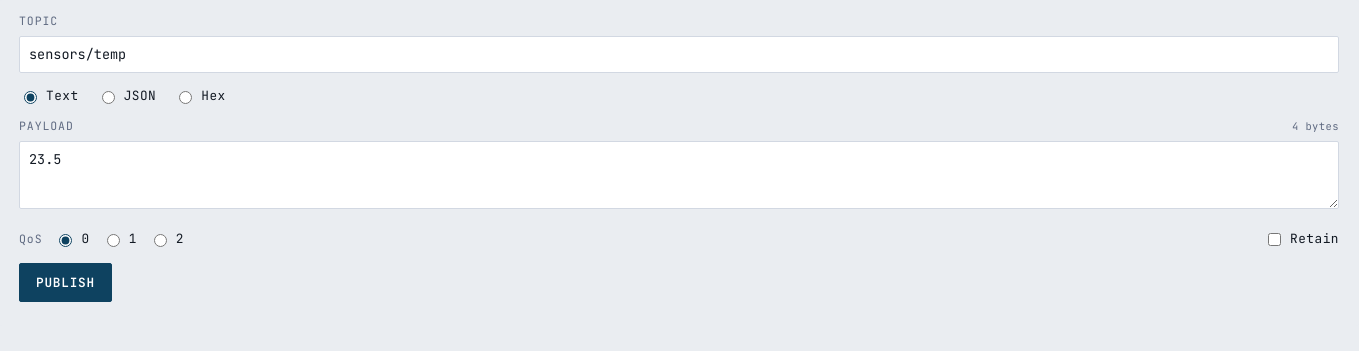
Test: PublishPanel › leaves what it cannot encode under the box, with the count gone
This screenshot has width=1359, height=351.
Clear the text box labelled "Payload" at (679, 175), box [19,141,1339,209]
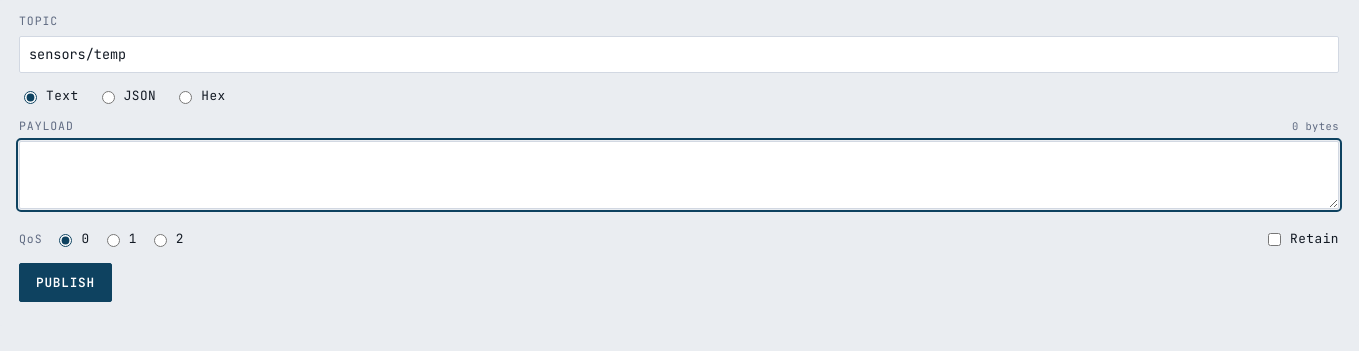
Click the radio button labelled "Hex" at (186, 97), box [179,91,192,104]
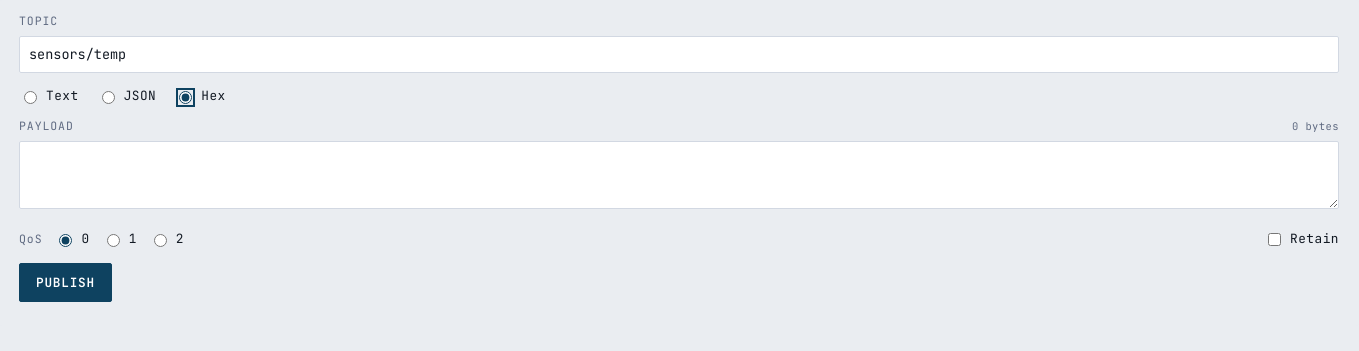
Type "zz" into the text box labelled "Payload" at (679, 175), box [19,141,1339,209]
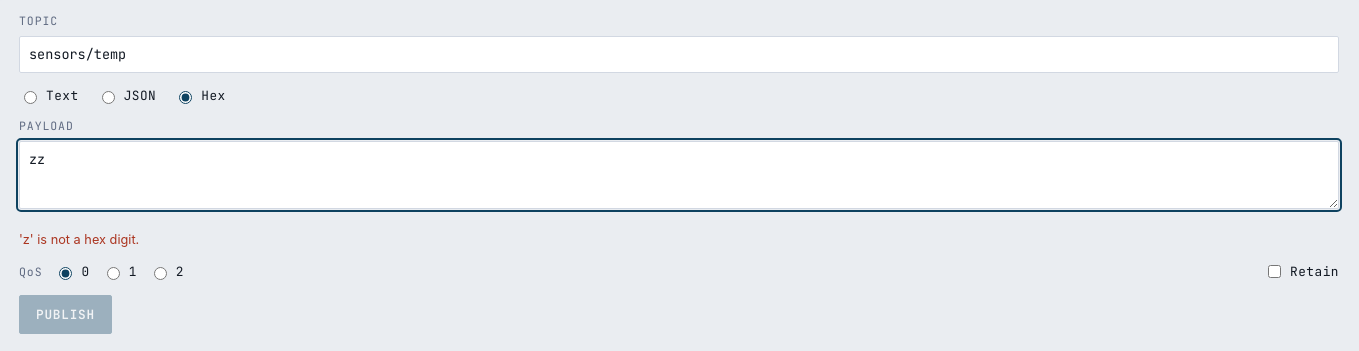
Result: the text "bytes" is gone
